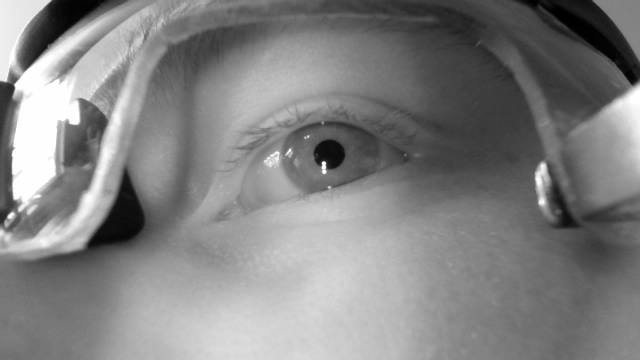pupil: (313, 138, 346, 170)
